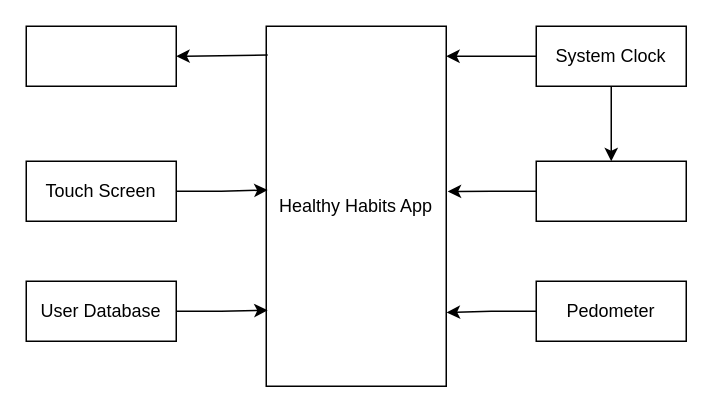
Some shapes in this 713 by 413 pixel diagram are drawn without their labels. Each missing label, with the centre of its shape:
Display: the point at 100,55
Notifications: the point at 610,190
